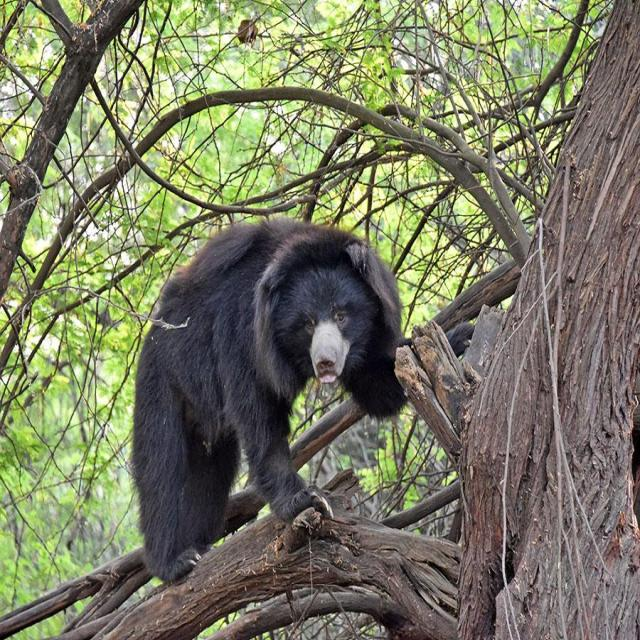Bear: (129, 220, 408, 587)
